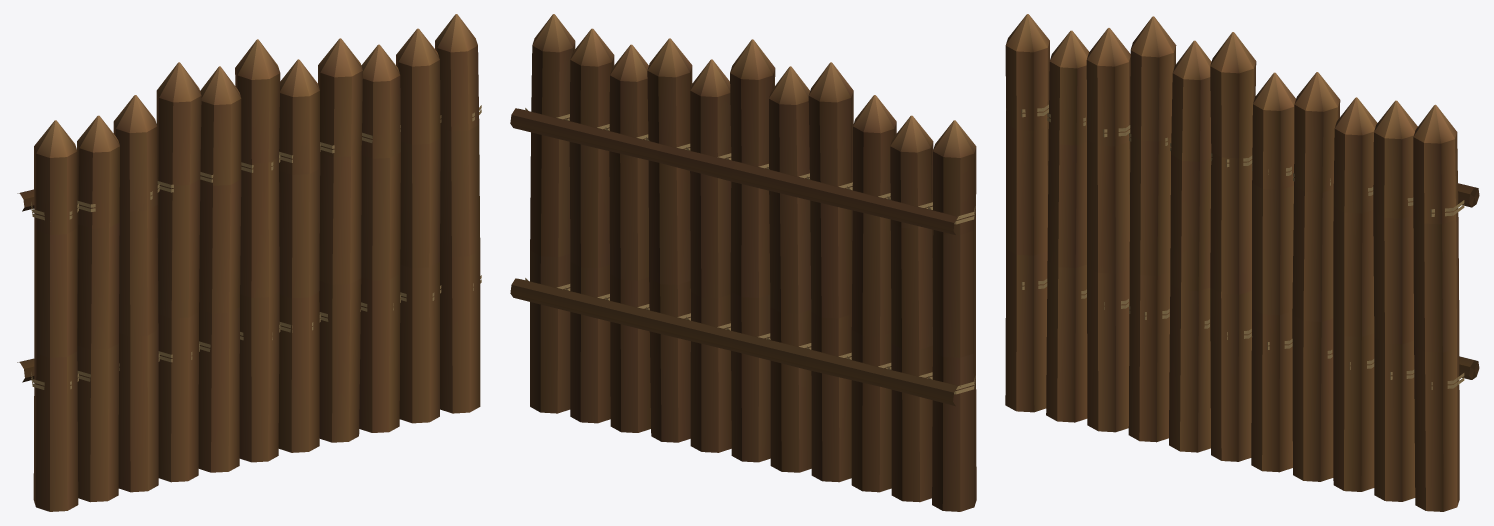
Rendered from palisade.glb.
The picture shows the model from 3 angles, left to right: view 1: azimuth 30°, elevation 25°; view 2: azimuth 150°, elevation 25°; view 3: azimuth 330°, elevation 25°; orthographic projection.
Visible parts, largest first — view 1: palisade_solid; view 2: palisade_solid; view 3: palisade_solid.
Boxes of the visible parts, bbox=[...] form: palisade_solid: bbox=[17, 14, 481, 511]; palisade_solid: bbox=[510, 14, 976, 511]; palisade_solid: bbox=[1005, 14, 1479, 511].
Bounding box in the file's own units: 3.01 × 2.68 × 0.3894.
